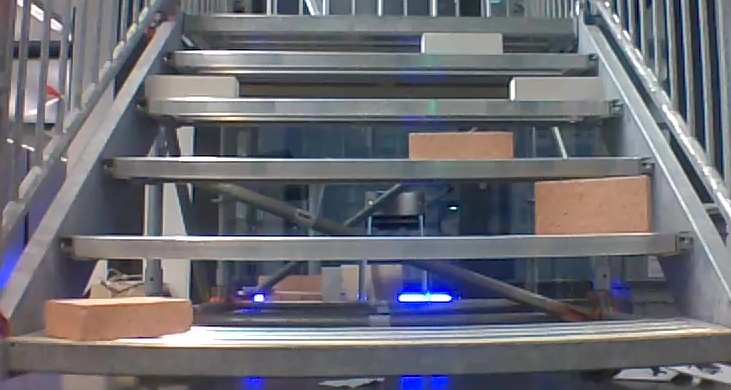brick: (536, 175, 652, 232), (45, 298, 191, 342), (409, 132, 513, 159), (510, 76, 605, 99), (146, 75, 238, 98), (421, 33, 501, 53)
edge: (4, 330, 731, 376), (56, 232, 695, 259), (101, 158, 657, 177), (136, 98, 622, 115), (164, 51, 602, 67), (183, 17, 576, 31)
